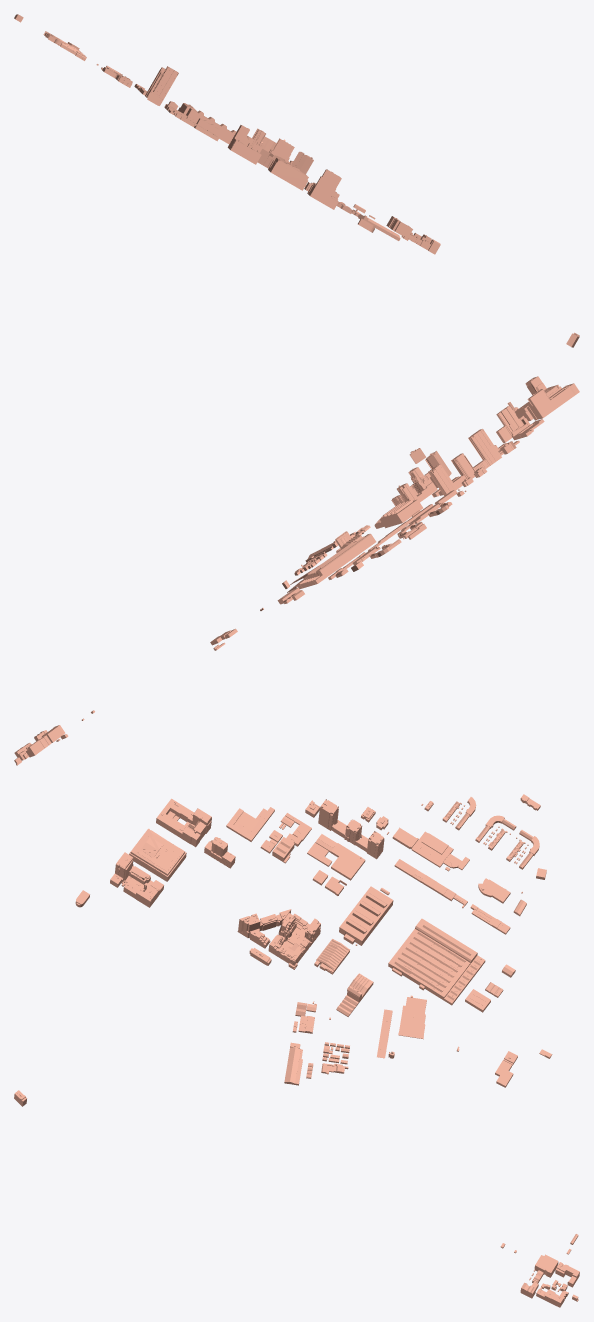
3 views of the same model, one above another, from view 1: azimuth 30°, elevation 25°; view 2: azimuth 150°, elevation 25°; view 3: azimuth 270°, elevation 25° (orthographic). The views are drawn at different scales.
Bounding box in the file's own units: 3.17e+07 × 2.56e+07 × 3.89e+07.
